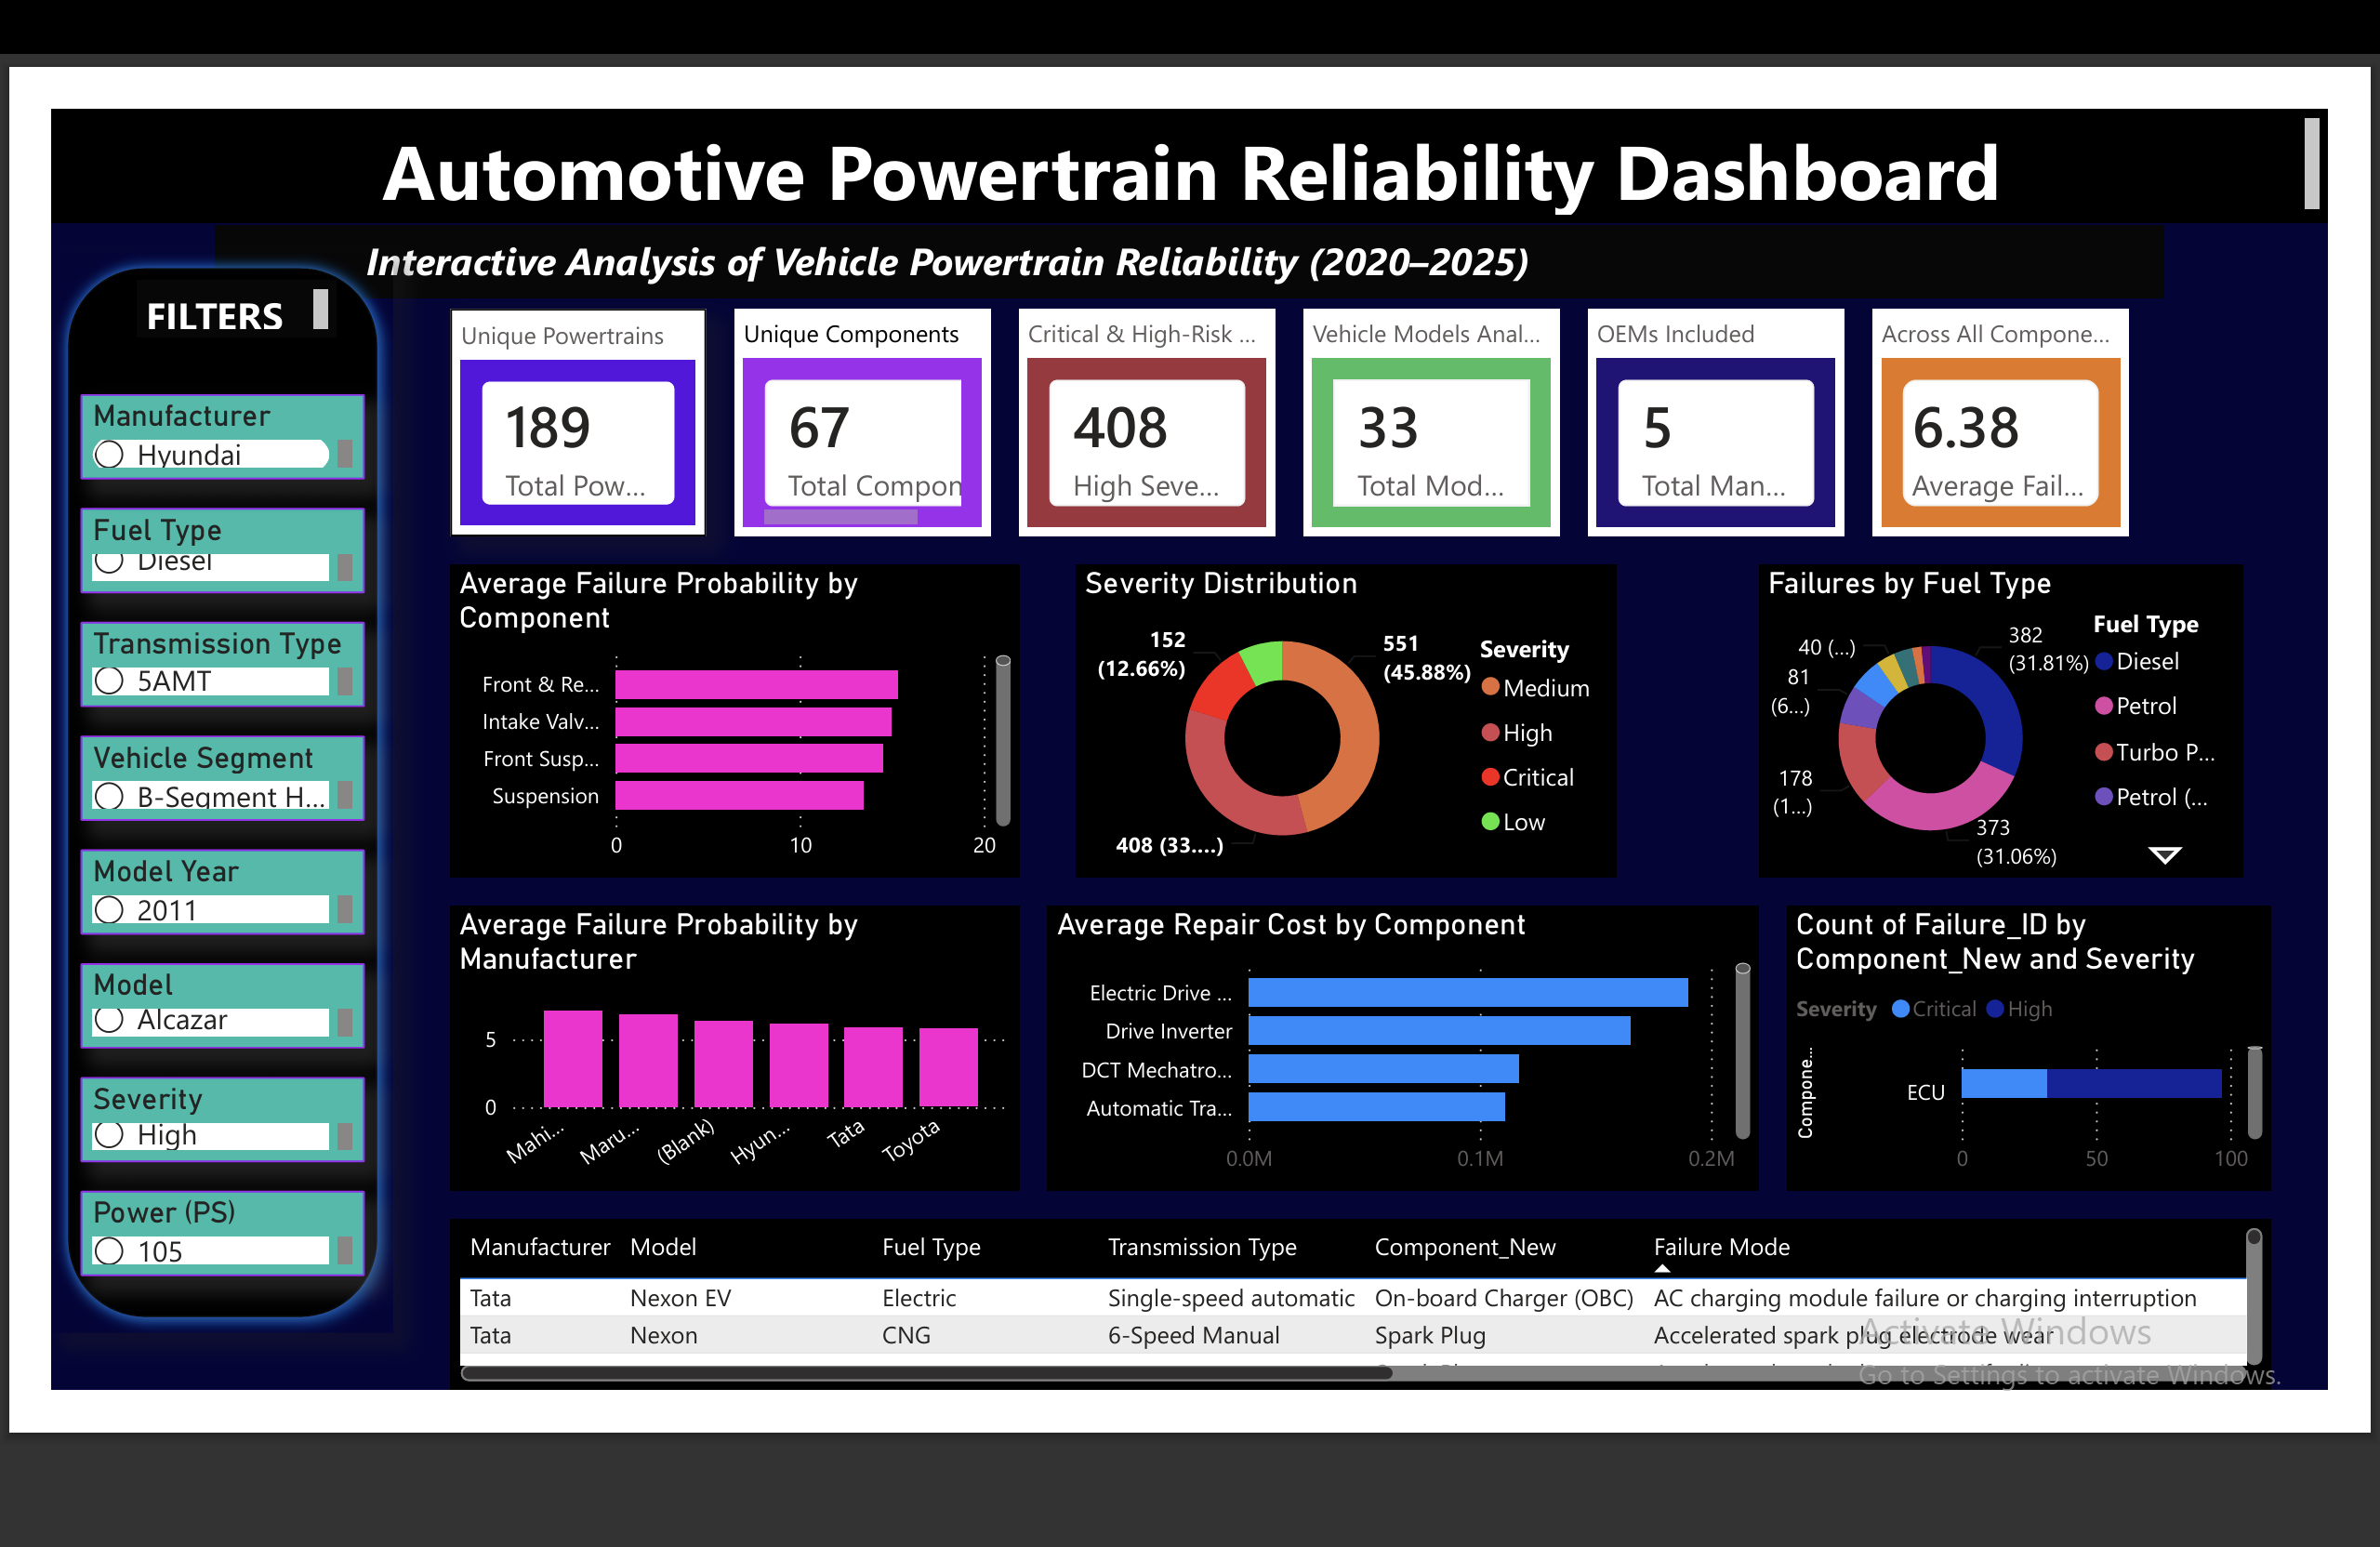

The page's visual inventory and layout, read from the dashboard file:
{"tool":"powerbi","page":{"name":"Page 1","canvas":[1280,720],"ordinal":0},"visuals":[{"type":"cardVisual","fields":{"Data":["Measures (2).Total Powertrains"]},"box":[224,112,144,128],"z":0},{"type":"cardVisual","fields":{"Data":["Measures (2).Average Failure Probability"]},"box":[1024,112,144,128],"z":1000},{"type":"cardVisual","fields":{"Data":["Measures (2).Total Manufacturers"]},"box":[864,112,144,128],"z":2000},{"type":"cardVisual","fields":{"Data":["Measures (2).High Severity Failures"]},"box":[544,112,144,128],"z":3000},{"type":"cardVisual","fields":{"Data":["Measures (2).Total Components"]},"box":[384,112,144,128],"z":4000},{"type":"cardVisual","fields":{"Data":["Measures (2).Total Models"]},"box":[704,112,144,128],"z":5000},{"type":"clusteredBarChart","title":"    Average Failure Probability by Component","fields":{"Category":["Powertrain Failure Profile.Component_New"],"Y":["Avg(Powertrain Failure Profile.Estimated Failure Probability (%))"]},"box":[224,256,320,176],"z":6000},{"type":"donutChart","title":" Severity Distribution   ","fields":{"Category":["Powertrain Failure Profile.Severity"],"Y":["CountNonNull(Powertrain Failure Profile.Failure_ID)"]},"box":[576,256,304,176],"z":7000},{"type":"clusteredColumnChart","title":"Average Failure Probability by Manufacturer","fields":{"Category":["Vehicle Master.Manufacturer"],"Y":["Avg(Powertrain Failure Profile.Estimated Failure Probability (%))"]},"box":[224,448,320,160],"z":8000},{"type":"clusteredBarChart","title":"Average Repair Cost by Component","fields":{"Category":["Powertrain Failure Profile.Component_New"],"Y":["Avg(Powertrain Failure Profile.Average Repair Cost)"]},"box":[560,448,400,160],"z":9000},{"type":"barChart","fields":{"Category":["Powertrain Failure Profile.Component_New"],"Y":["CountNonNull(Powertrain Failure Profile.Failure_ID)"],"Series":["Powertrain Failure Profile.Severity"]},"box":[976,448,272,160],"z":10000},{"type":"textbox","box":[92.3,65.4,1096.2,40.4],"z":11000},{"type":"textbox","box":[0,0,1280,64],"z":12000},{"type":"shape","box":[0,80,192,608],"z":13000},{"type":"textbox","box":[48,96,112,32],"z":14000},{"type":"listSlicer","fields":{"Values":["Vehicle Master.Fuel Type"]},"box":[16,224,160,48],"z":15000},{"type":"listSlicer","fields":{"Values":["Vehicle Master.Transmission Type"]},"box":[16,288,160,48],"z":16000},{"type":"listSlicer","fields":{"Values":["Vehicle Master.Vehicle Segment"]},"box":[16,352,160,48],"z":17000},{"type":"listSlicer","fields":{"Values":["Vehicle Master.Model Year"]},"box":[16,416,160,48],"z":18000},{"type":"listSlicer","fields":{"Values":["Vehicle Master.Model"]},"box":[16,480,160,48],"z":19000},{"type":"listSlicer","fields":{"Values":["Powertrain Failure Profile.Severity"]},"box":[16,544,160,48],"z":20000},{"type":"listSlicer","fields":{"Values":["Vehicle Master.Power (PS)"]},"box":[16,608,160,48],"z":21000},{"type":"listSlicer","fields":{"Values":["Vehicle Master.Manufacturer"]},"box":[16,160,160,48],"z":22000},{"type":"donutChart","title":"Failures by Fuel Type","fields":{"Category":["Vehicle Master.Fuel Type"],"Y":["CountNonNull(Powertrain Failure Profile.Failure_ID)"]},"box":[960,256,272,176],"z":23000},{"type":"tableEx","fields":{"Values":["Vehicle Master.Manufacturer","Vehicle Master.Model","Vehicle Master.Fuel Type","Vehicle Master.Transmission Type","Powertrain Failure Profile.Component_New","Powertrain Failure Profile.Failure Mode","Powertrain Failure Profile.Severity","Powertrain Failure Profile.Estimated Failure Probability (%)","Powertrain Failure Profile.Average Repair Cost"]},"box":[224,624,1024,96],"z":24000}]}

Visuals, with their boxes on the page's 1280x720 design canvas (x1, y1, x2, y2). These are canvas units, not pixel positions in the 2380x1547 screenshot, which may show the page scaled, cropped or inside an application window:
cardVisual - Measures (2).Total Powertrains: bbox(224, 112, 368, 240)
cardVisual - Measures (2).Average Failure Probability: bbox(1024, 112, 1168, 240)
cardVisual - Measures (2).Total Manufacturers: bbox(864, 112, 1008, 240)
cardVisual - Measures (2).High Severity Failures: bbox(544, 112, 688, 240)
cardVisual - Measures (2).Total Components: bbox(384, 112, 528, 240)
cardVisual - Measures (2).Total Models: bbox(704, 112, 848, 240)
"    Average Failure Probability by Component" clusteredBarChart: bbox(224, 256, 544, 432)
" Severity Distribution   " donutChart: bbox(576, 256, 880, 432)
"Average Failure Probability by Manufacturer" clusteredColumnChart: bbox(224, 448, 544, 608)
"Average Repair Cost by Component" clusteredBarChart: bbox(560, 448, 960, 608)
barChart - Powertrain Failure Profile.Component_New x CountNonNull(Powertrain Failure Profile.Failure_ID): bbox(976, 448, 1248, 608)
textbox: bbox(92, 65, 1188, 106)
textbox: bbox(0, 0, 1280, 64)
shape: bbox(0, 80, 192, 688)
textbox: bbox(48, 96, 160, 128)
listSlicer - Vehicle Master.Fuel Type: bbox(16, 224, 176, 272)
listSlicer - Vehicle Master.Transmission Type: bbox(16, 288, 176, 336)
listSlicer - Vehicle Master.Vehicle Segment: bbox(16, 352, 176, 400)
listSlicer - Vehicle Master.Model Year: bbox(16, 416, 176, 464)
listSlicer - Vehicle Master.Model: bbox(16, 480, 176, 528)
listSlicer - Powertrain Failure Profile.Severity: bbox(16, 544, 176, 592)
listSlicer - Vehicle Master.Power (PS): bbox(16, 608, 176, 656)
listSlicer - Vehicle Master.Manufacturer: bbox(16, 160, 176, 208)
"Failures by Fuel Type" donutChart: bbox(960, 256, 1232, 432)
tableEx - Vehicle Master.Manufacturer x Vehicle Master.Model: bbox(224, 624, 1248, 720)
